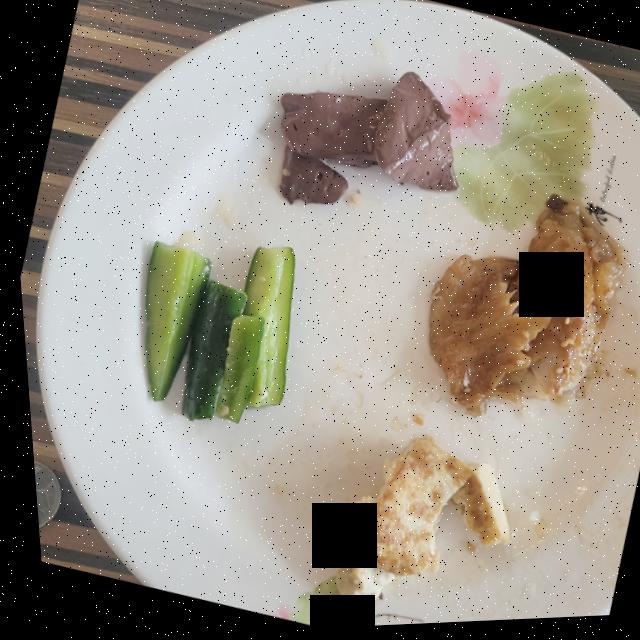Kabayaki sea bream fillet: (423, 202, 619, 420)
coin: (27, 460, 53, 526)
cucumber: (139, 241, 290, 423)
pig blood curd: (276, 74, 454, 206)
